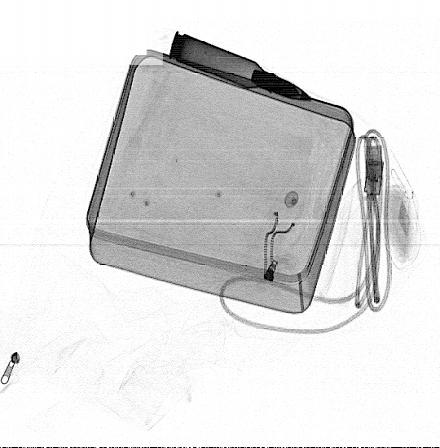Bullet: (167, 30, 316, 102)
